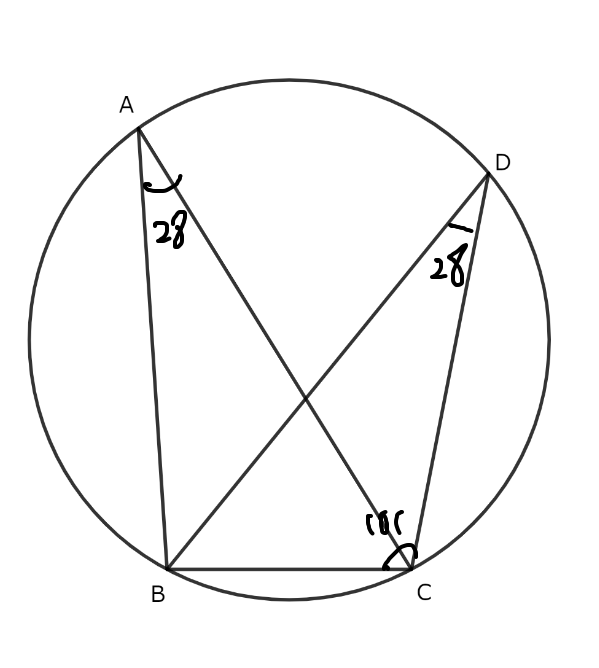Angle_Scurve: (376, 539, 422, 575), (136, 169, 187, 194), (444, 217, 481, 240)
